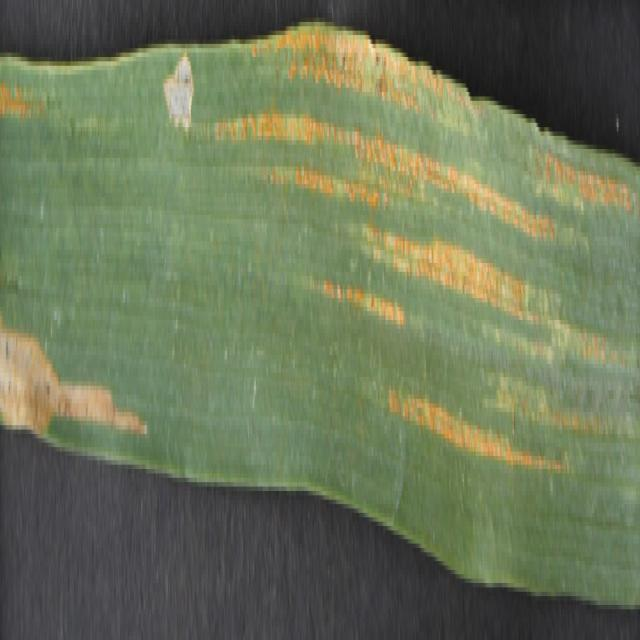leaf rust: (212, 4, 634, 535), (1, 48, 53, 184)
